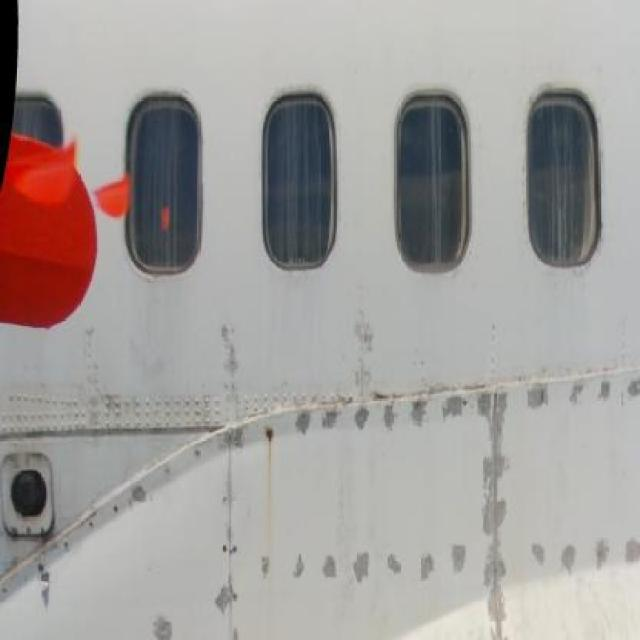Missing-Rivet: (289, 392, 622, 434), (88, 446, 204, 534), (254, 548, 481, 584), (0, 529, 85, 608), (529, 539, 640, 576), (219, 475, 243, 640)
Rust: (261, 414, 287, 546)
Scartch: (249, 521, 640, 594), (280, 368, 640, 446), (469, 371, 523, 640), (212, 306, 256, 485), (77, 314, 126, 464), (591, 86, 624, 283), (212, 475, 250, 640), (512, 56, 530, 286), (346, 288, 382, 402), (523, 265, 612, 307), (527, 66, 602, 106), (33, 560, 62, 629), (143, 592, 182, 639)
